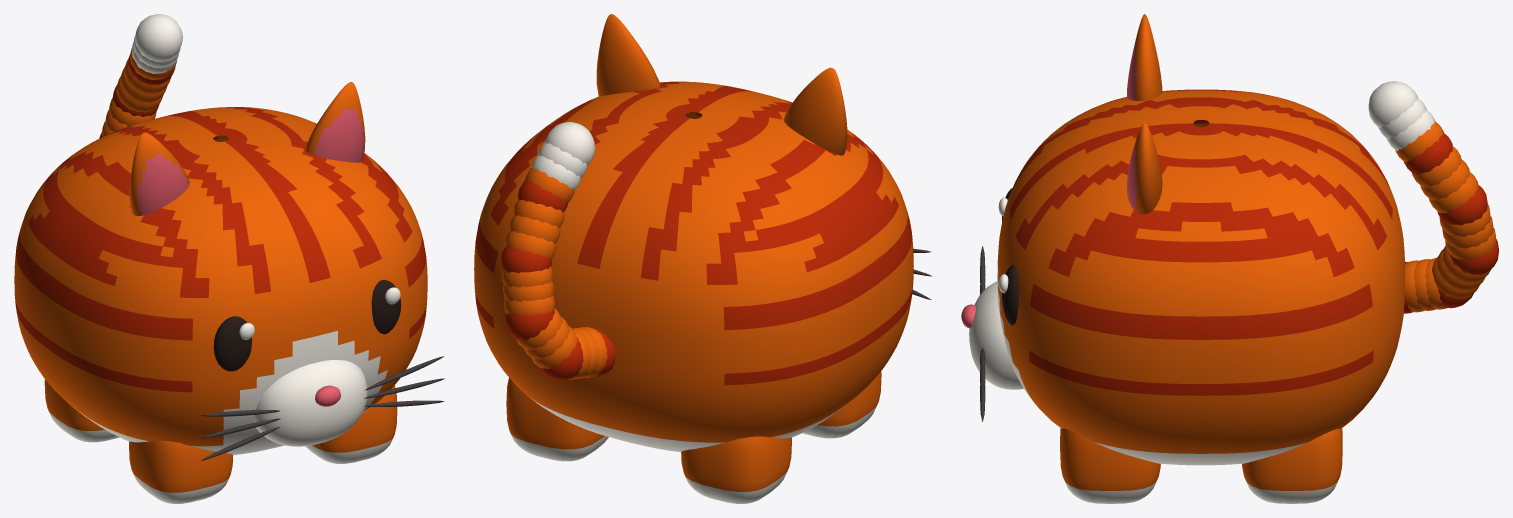
File: cat.fbx
The picture shows the model from 3 angles, left to right: view 1: azimuth 30°, elevation 25°; view 2: azimuth 150°, elevation 25°; view 3: azimuth 270°, elevation 25°; orthographic projection. The views are drawn at different scales.
Parts seen in each view (by area): view 1: cat; view 2: cat; view 3: cat.
Part boxes in pixels (<box>): cat: <box>14,14,444,503</box>; cat: <box>474,14,932,503</box>; cat: <box>961,14,1498,503</box>.
Bounding box in the file's own units: 3.8 × 3.73 × 4.74.
